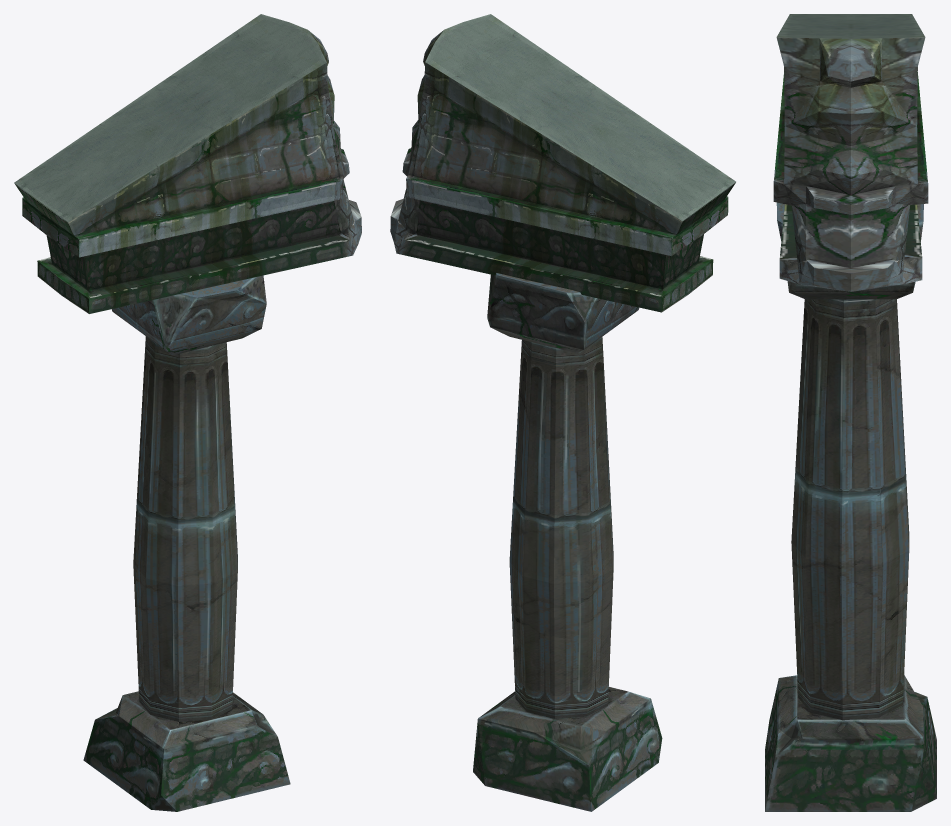
The model's file is stemple_pillar_02.fbx.
3 views of the same model, side by side, from view 1: azimuth 30°, elevation 25°; view 2: azimuth 150°, elevation 25°; view 3: azimuth 270°, elevation 25° (orthographic). The views are drawn at different scales.
Visible parts, largest first — view 1: obj1.052; view 2: obj1.052; view 3: obj1.052.
Boxes of the visible parts, <box> form: obj1.052: <box>14,14,361,811</box>; obj1.052: <box>390,14,735,811</box>; obj1.052: <box>765,14,936,811</box>.
Bounding box in the file's own units: 5.39 × 11.62 × 2.26.
